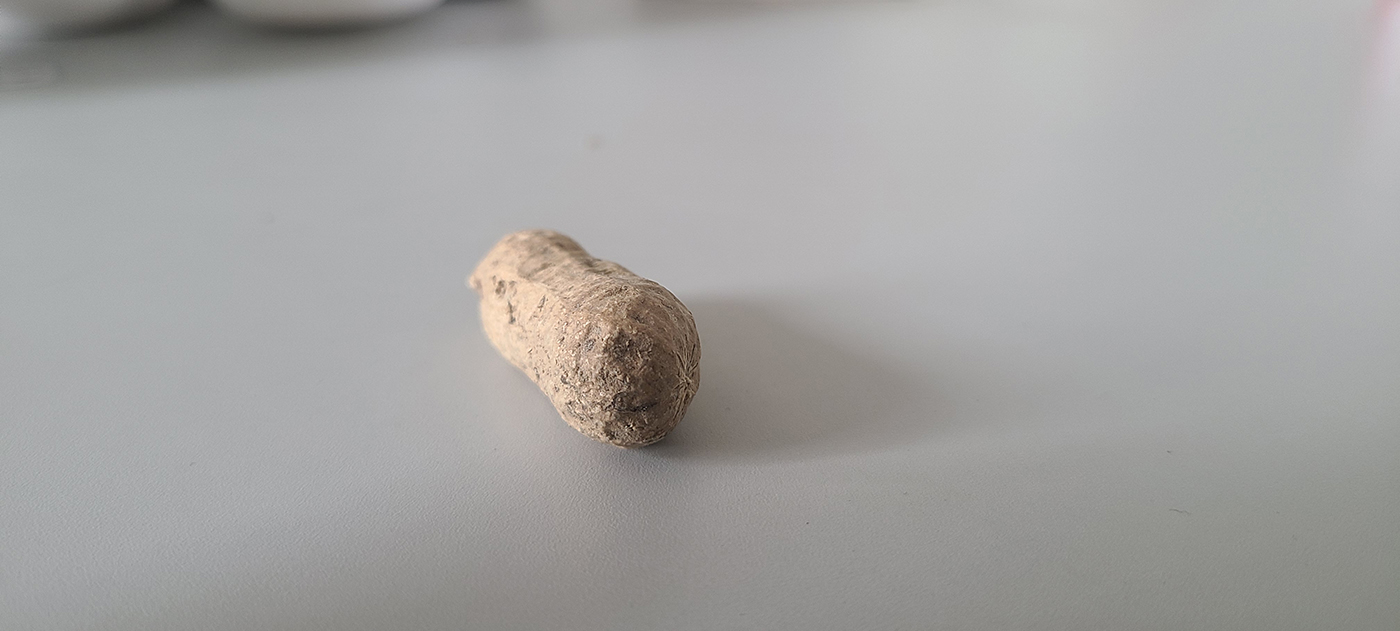h: (469, 229, 703, 447)
